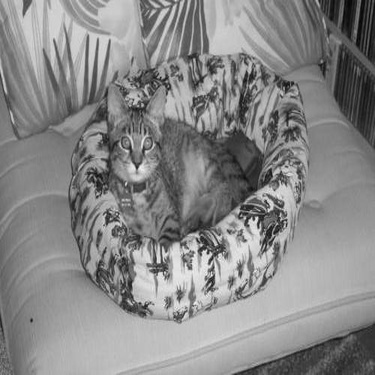cat: (56, 76, 257, 240)
